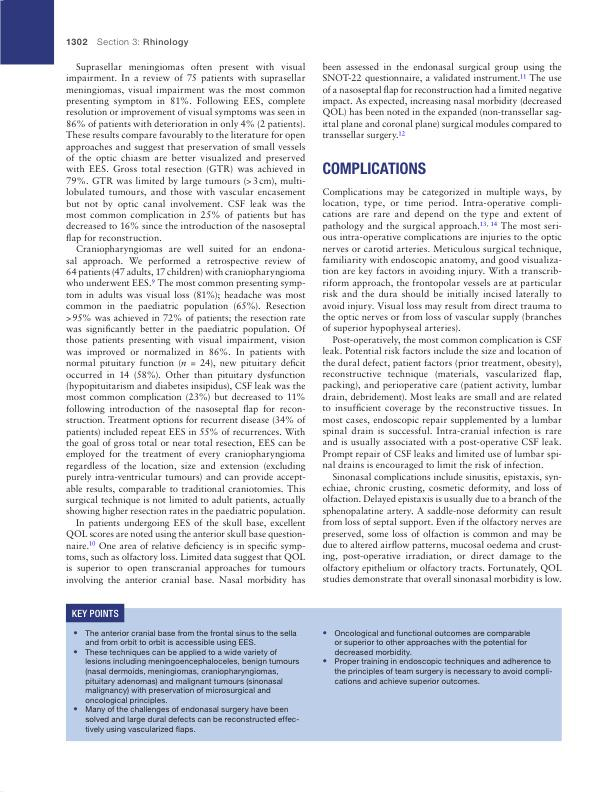caption: (71, 609, 120, 618)
header: (96, 37, 189, 48)
list: (71, 628, 301, 736), (321, 628, 553, 688)
section-heading: (321, 161, 427, 175)
text: (65, 62, 306, 586), (322, 186, 563, 585), (321, 61, 563, 141)
